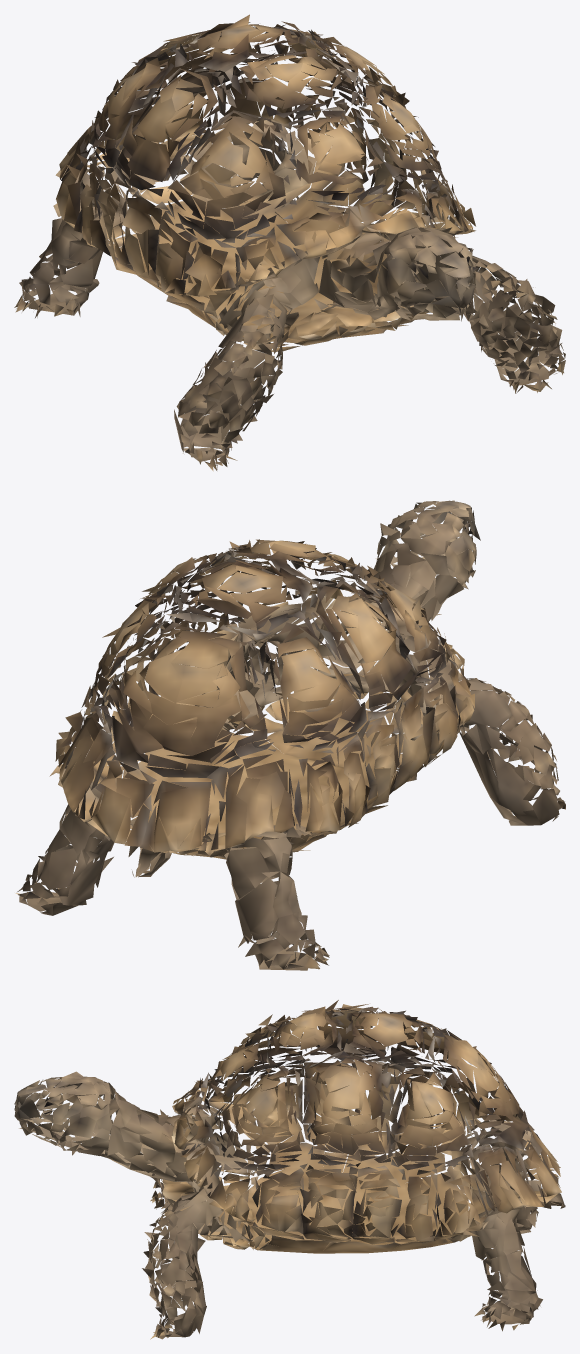
Rendered from tortoise.glb.
3 views of the same model, one above another, from view 1: azimuth 30°, elevation 25°; view 2: azimuth 150°, elevation 25°; view 3: azimuth 270°, elevation 25° (orthographic). The views are drawn at different scales.
Visible parts, largest first — view 1: LO.001; view 2: LO.001; view 3: LO.001.
Part boxes in pixels (x1,y1,x2,y2): LO.001: (14, 14, 565, 471); LO.001: (15, 500, 565, 970); LO.001: (14, 1000, 565, 1339).
Size of the model in its own units: 1.29 by 0.9901 by 1.9.
1 material, 1 textured.
